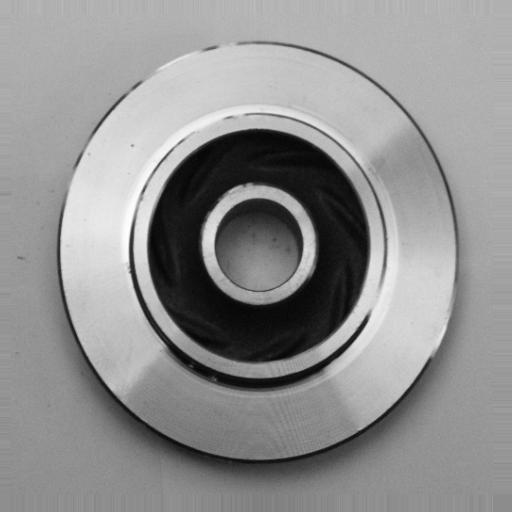scratch: (174, 108, 253, 146)
unpolished_casting: (58, 40, 462, 463)
